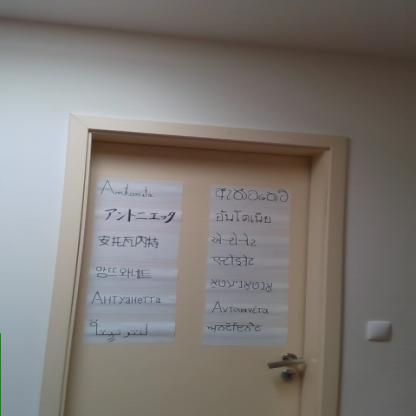door: (93, 144, 306, 415)
lever: (265, 355, 307, 368)
